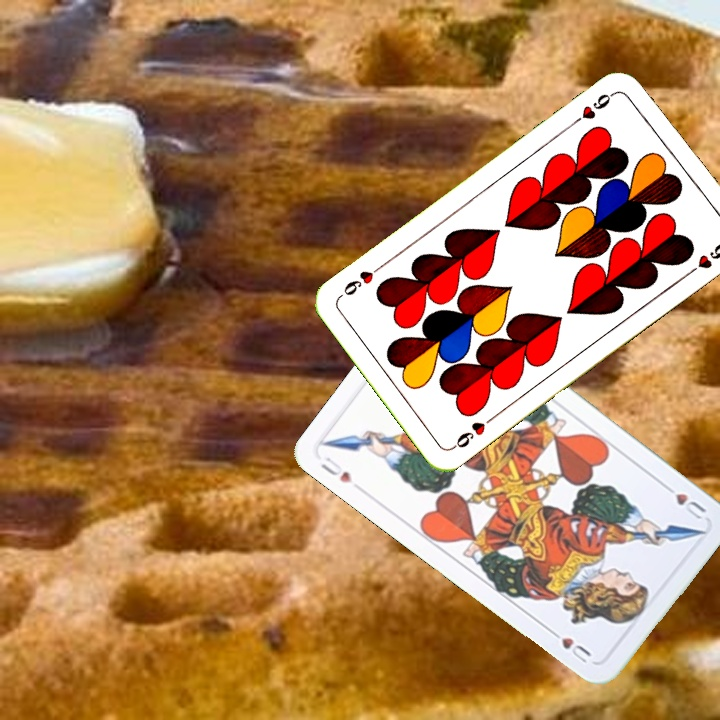H9: (569, 87, 620, 128), (448, 411, 498, 452)
HU: (658, 479, 709, 522), (317, 453, 355, 486)
